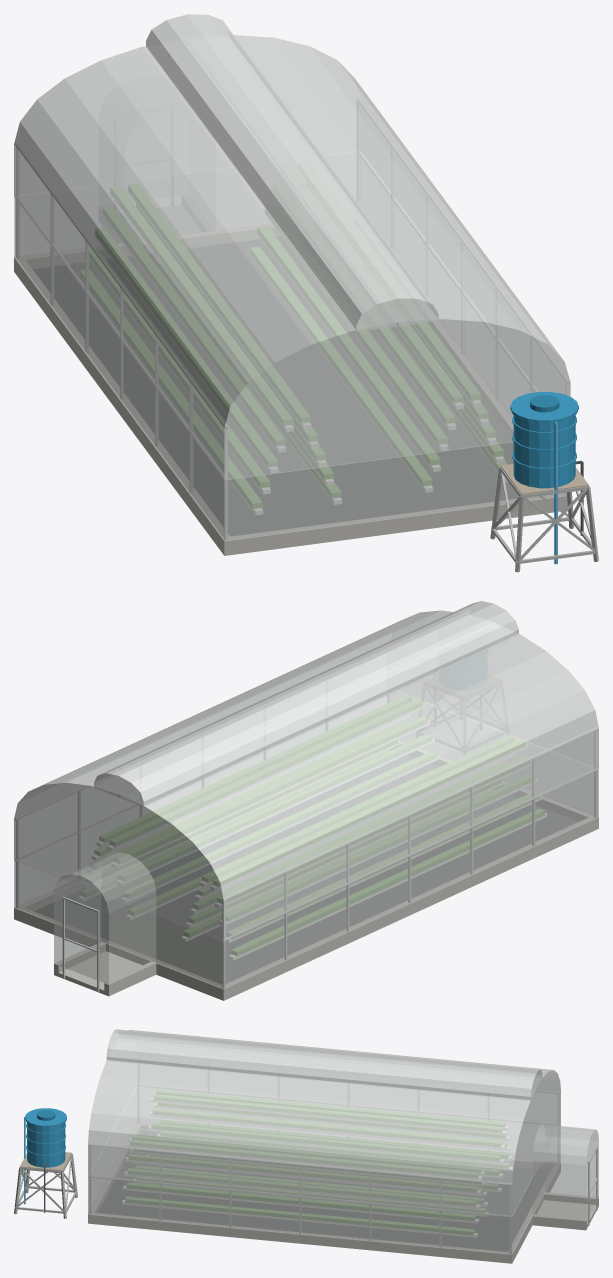
Rendered from rares_gh_hydro.glb.
3 renders of one model, top to bottom at view 1: azimuth 30°, elevation 25°; view 2: azimuth 150°, elevation 25°; view 3: azimuth 270°, elevation 25°, orthographic. The views are drawn at different scales.
Parts seen in each view (by area): view 1: GHH_MainUpperShell, GHH_Floor, GHH_RidgeVent, GHH_MeshBack, GHH_MeshSideW, GHH_MeshFront, GHH_MeshSideE, GHH_CurbS, GHH_CurbW, GHH_Lettuce_1_0_-1.0, GHH_Lettuce_0_2_-1.0, GHH_Lettuce_0_3_-1.0 (+19 smaller); view 2: GHH_MainUpperShell, GHH_Floor, GHH_RidgeVent, GHH_MeshSideW, GHH_VestShell, GHH_MeshFront, GHH_CurbW, GHH_MeshBack, GHH_MeshSideE, GHH_Lettuce_1_4_-1.0, GHH_Lettuce_0_4_-1.0, GHH_Lettuce_1_3_-1.0 (+34 smaller); view 3: GHH_MainUpperShell, GHH_MeshSideE, GHH_RidgeVent, GHH_Floor, GHH_VestShell, GHH_CurbE, GHH_Lettuce_0_2_1.0, GHH_Lettuce_1_4_1.0, GHH_Lettuce_0_3_1.0, GHH_Lettuce_0_4_1.0, GHH_Lettuce_1_1_1.0, GHH_Lettuce_1_0_1.0 (+37 smaller).
Boxes of the visible parts, box(x1,y1,x2,y2) form: GHH_MainUpperShell: box(14, 35, 570, 480); GHH_Floor: box(33, 236, 518, 536); GHH_RidgeVent: box(146, 14, 438, 331); GHH_MeshBack: box(224, 442, 566, 540); GHH_MeshSideW: box(15, 198, 225, 541); GHH_MeshFront: box(14, 152, 355, 257); GHH_MeshSideE: box(360, 158, 529, 417); GHH_CurbS: box(221, 494, 563, 555); GHH_CurbW: box(14, 257, 233, 555); GHH_Lettuce_1_0_-1.0: box(250, 247, 432, 486); GHH_Lettuce_0_2_-1.0: box(95, 227, 277, 467); GHH_Lettuce_0_3_-1.0: box(103, 207, 285, 446); GHH_MainUpperShell: box(14, 610, 598, 941); GHH_Floor: box(34, 749, 578, 984); GHH_RidgeVent: box(94, 601, 518, 806); GHH_MeshSideW: box(222, 770, 598, 988); GHH_VestShell: box(54, 852, 155, 984); GHH_MeshFront: box(14, 861, 224, 988); GHH_CurbW: box(218, 816, 597, 1000); GHH_MeshBack: box(391, 692, 598, 817); GHH_MeshSideE: box(14, 696, 386, 907); GHH_Lettuce_1_4_-1.0: box(109, 699, 422, 846); GHH_Lettuce_0_4_-1.0: box(213, 739, 525, 886); GHH_Lettuce_1_3_-1.0: box(114, 716, 427, 863); GHH_MainUpperShell: box(88, 1030, 560, 1216); GHH_MeshSideE: box(88, 1177, 512, 1254); GHH_RidgeVent: box(106, 1029, 542, 1100); GHH_Floor: box(98, 1132, 545, 1251); GHH_VestShell: box(533, 1124, 598, 1220); GHH_CurbE: box(88, 1213, 513, 1263); GHH_Lettuce_0_2_1.0: box(151, 1123, 500, 1161); GHH_Lettuce_1_4_1.0: box(130, 1139, 478, 1177); GHH_Lettuce_0_3_1.0: box(153, 1108, 501, 1146); GHH_Lettuce_0_4_1.0: box(154, 1094, 502, 1132); GHH_Lettuce_1_1_1.0: box(126, 1182, 475, 1220); GHH_Lettuce_1_0_1.0: box(125, 1196, 474, 1234).
Size of the model in its own units: 8.84 by 4.5 by 16.5.
